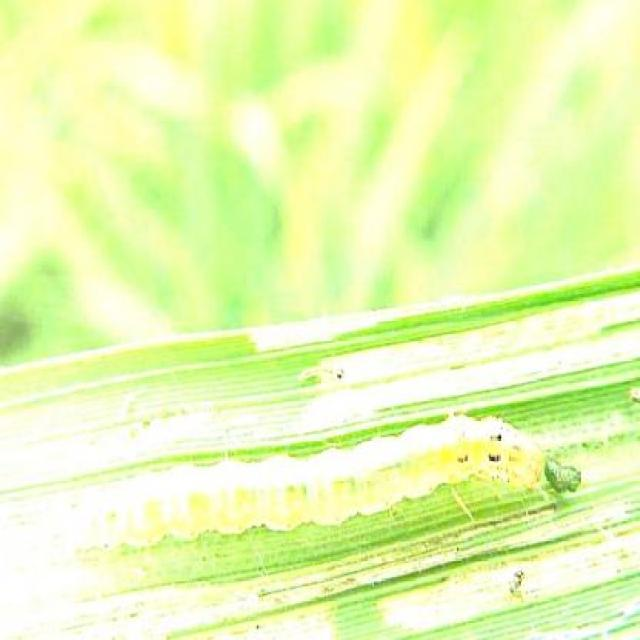leaf-folder: (72, 374, 582, 555)
